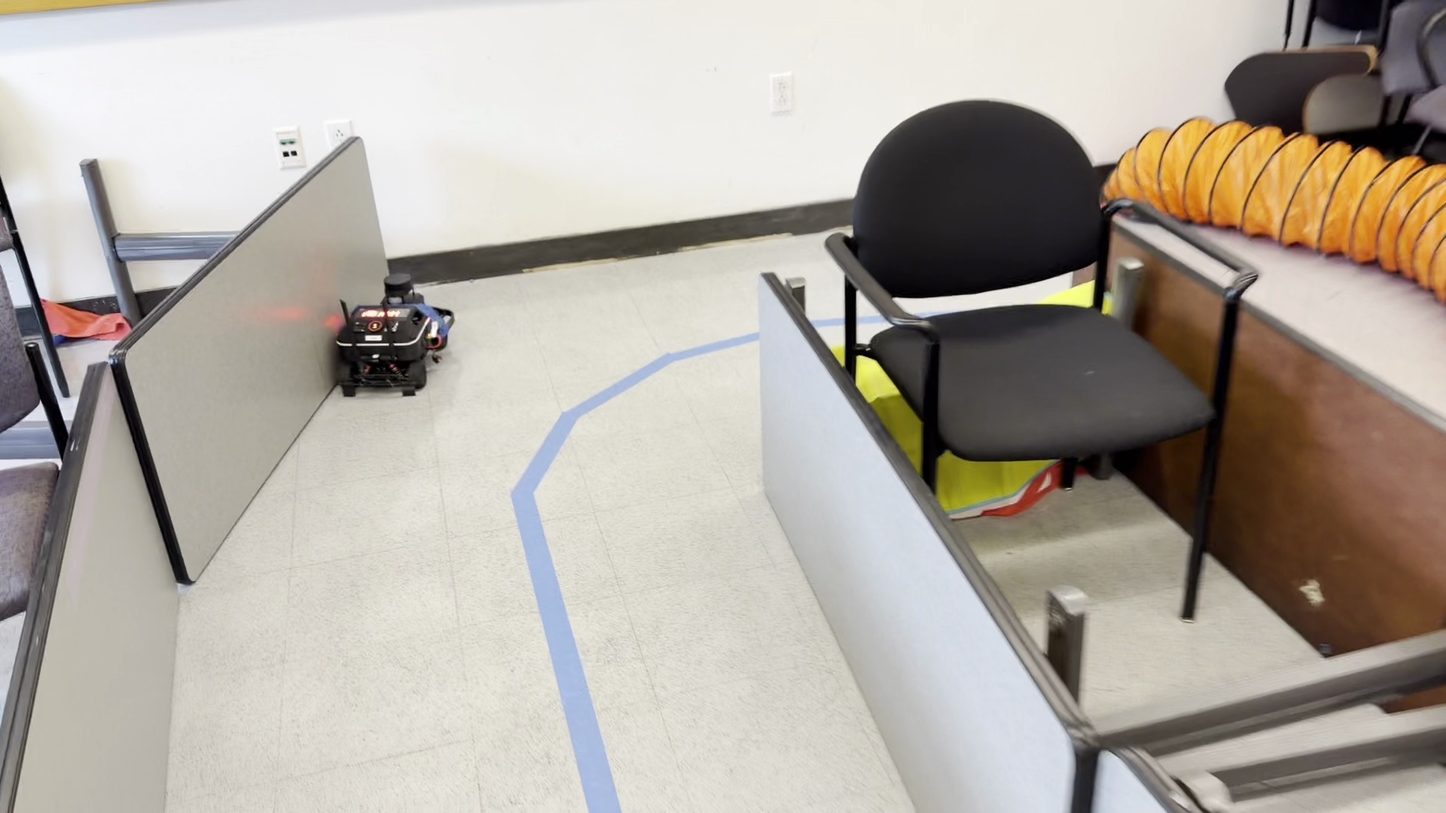racecar: (334, 276, 451, 396)
